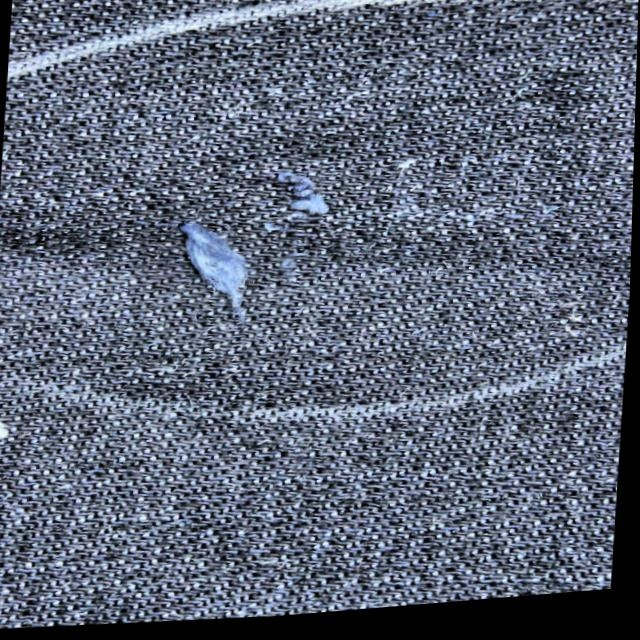Hole: (150, 203, 273, 327), (254, 151, 361, 238)
